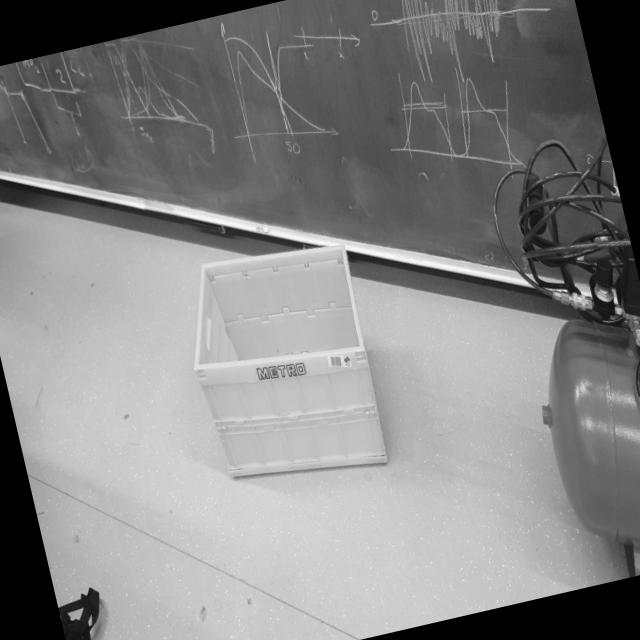box: (154, 202, 416, 540)
